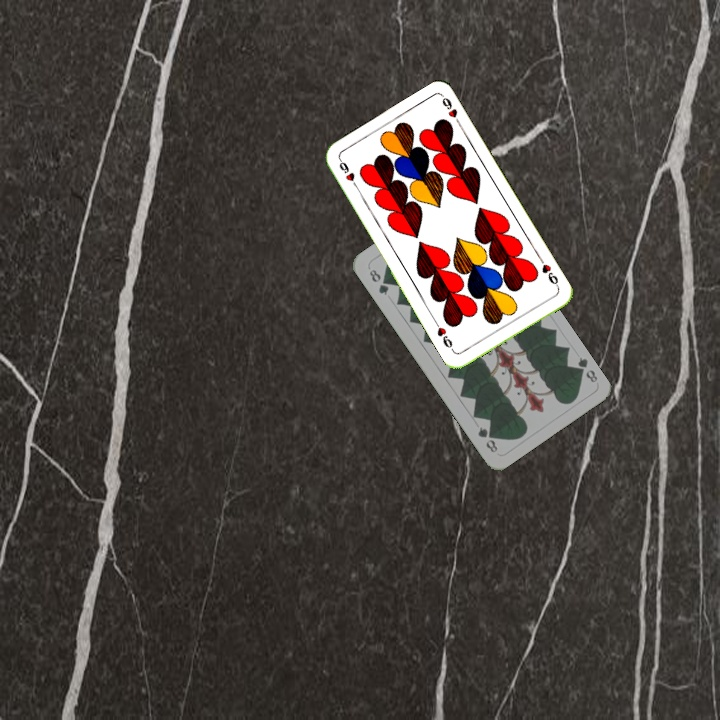G8: (571, 353, 600, 385), (365, 265, 391, 298)
H9: (335, 155, 361, 192), (538, 260, 562, 291)
